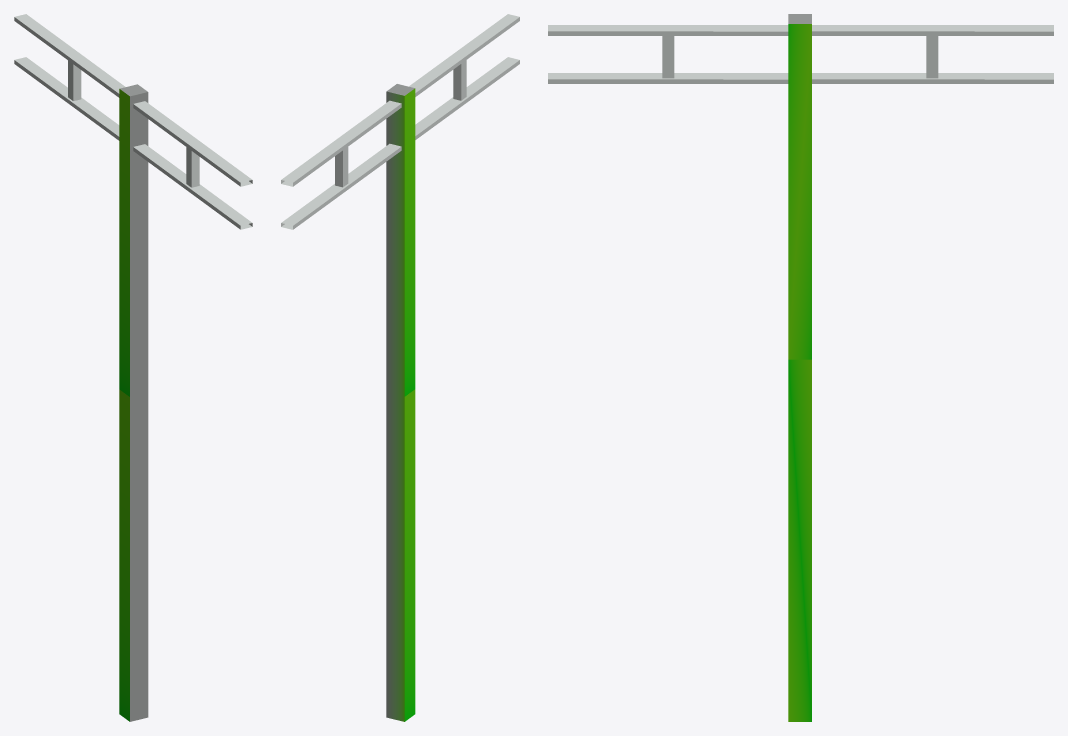
3 renders of one model, left to right at view 1: azimuth 30°, elevation 25°; view 2: azimuth 150°, elevation 25°; view 3: azimuth 270°, elevation 25°, orthographic. The views are drawn at different scales.
Parts seen in each view (by area): view 1: G:\FFXIV-MapTools\exports\f1f1\bg\ffxiv\fst_f1\fld\f1f1\bgpa; view 2: G:\FFXIV-MapTools\exports\f1f1\bg\ffxiv\fst_f1\fld\f1f1\bgpa; view 3: G:\FFXIV-MapTools\exports\f1f1\bg\ffxiv\fst_f1\fld\f1f1\bgpa.
Part boxes in pixels (box(x1,y1,x2,y2)): G:\FFXIV-MapTools\exports\f1f1\bg\ffxiv\fst_f1\fld\f1f1\bgpa: box(14, 14, 252, 721); G:\FFXIV-MapTools\exports\f1f1\bg\ffxiv\fst_f1\fld\f1f1\bgpa: box(281, 14, 519, 721); G:\FFXIV-MapTools\exports\f1f1\bg\ffxiv\fst_f1\fld\f1f1\bgpa: box(548, 14, 1053, 721).
Bounding box in the file's own units: 0.3501 × 11.48 × 7.54.
